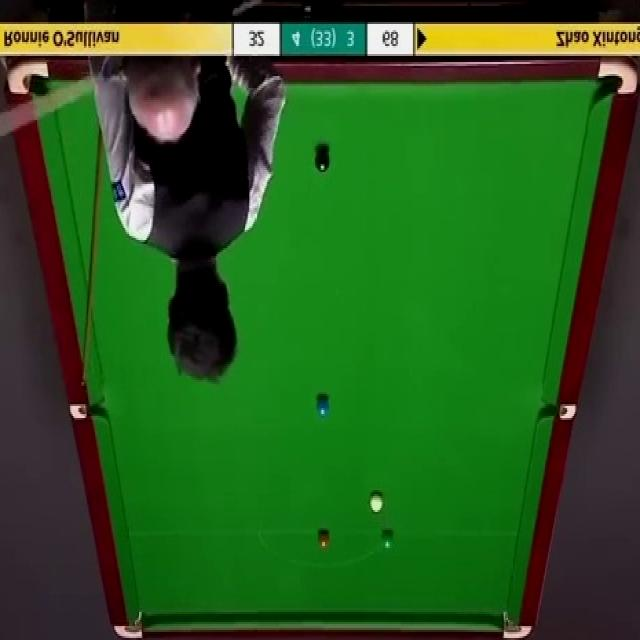pocket: (4, 60, 49, 98), (596, 58, 637, 97), (112, 606, 145, 640), (499, 608, 530, 640), (539, 400, 576, 422), (67, 405, 105, 420)
